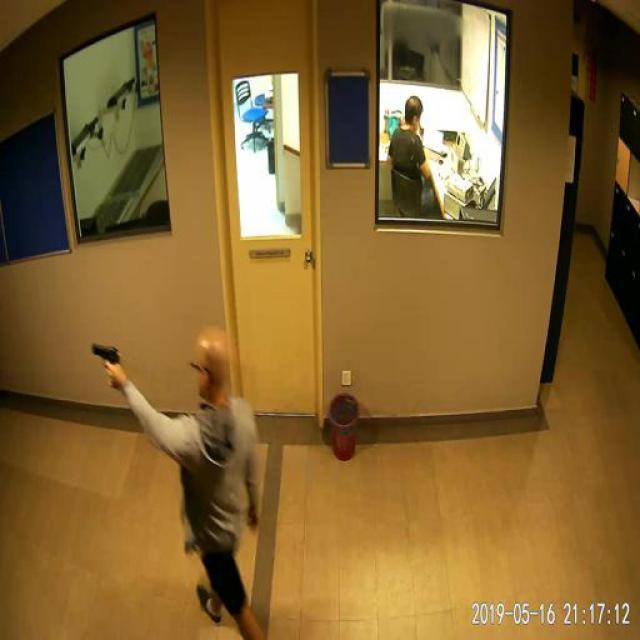weapon: (89, 342, 125, 384)
